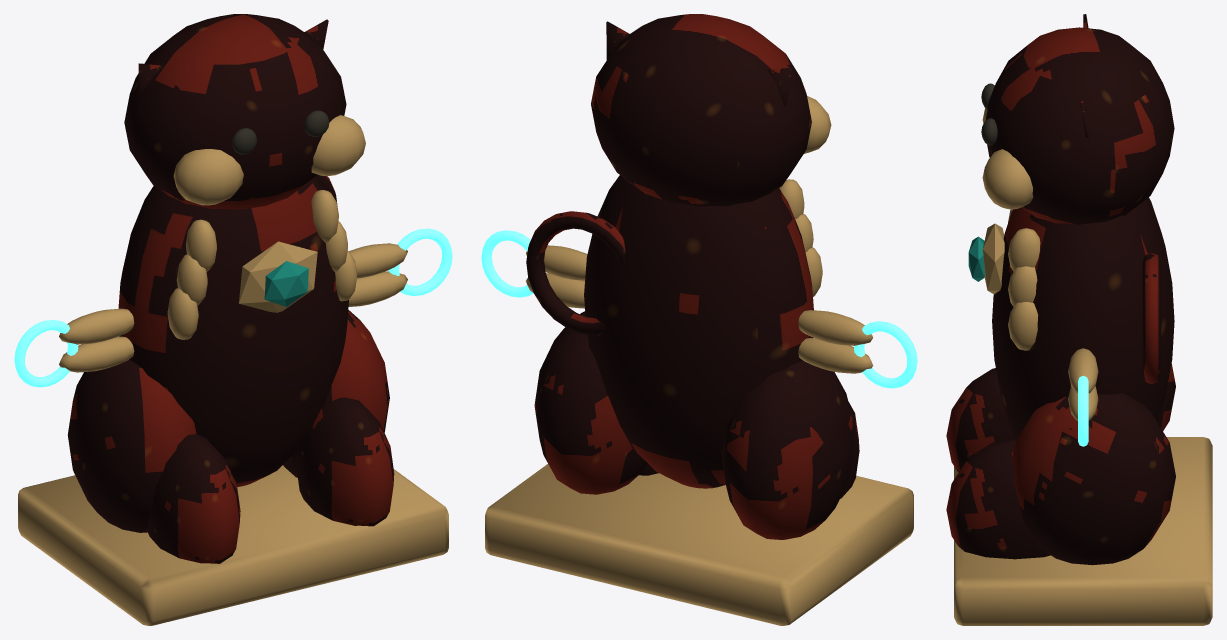
Rendered from guardian_statue_pattern_cinnabar.fbx.
The picture shows the model from 3 angles, left to right: view 1: azimuth 30°, elevation 25°; view 2: azimuth 150°, elevation 25°; view 3: azimuth 270°, elevation 25°; orthographic projection.
Visible parts, largest first — view 1: Reviewed_guardian_statue_Body.005, TH10_Guardian_Handle.016, TH10_Guardian_Handle.017; view 2: Reviewed_guardian_statue_Body.005, TH10_Guardian_Handle.016, TH10_Guardian_Handle.017; view 3: Reviewed_guardian_statue_Body.005, TH10_Guardian_Handle.017.
Part boxes in pixels (x1=…): Reviewed_guardian_statue_Body.005: x1=18, y1=14, x2=448, y2=625; TH10_Guardian_Handle.016: x1=14, y1=320, x2=78, y2=387; TH10_Guardian_Handle.017: x1=389, y1=228, x2=452, y2=295; Reviewed_guardian_statue_Body.005: x1=485, y1=14, x2=913, y2=625; TH10_Guardian_Handle.016: x1=854, y1=321, x2=917, y2=388; TH10_Guardian_Handle.017: x1=481, y1=230, x2=533, y2=297; Reviewed_guardian_statue_Body.005: x1=946, y1=14, x2=1212, y2=625; TH10_Guardian_Handle.017: x1=1078, y1=375, x2=1088, y2=446.
Bounding box in the file's own units: 0.654 × 0.75 × 0.35.
5 materials, 1 textured.
